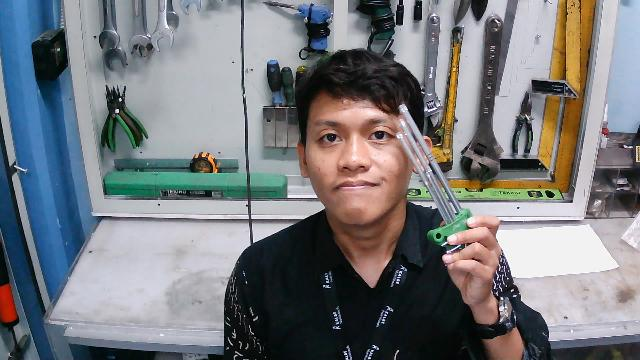kunci_l_bintang: (394, 96, 482, 267)
